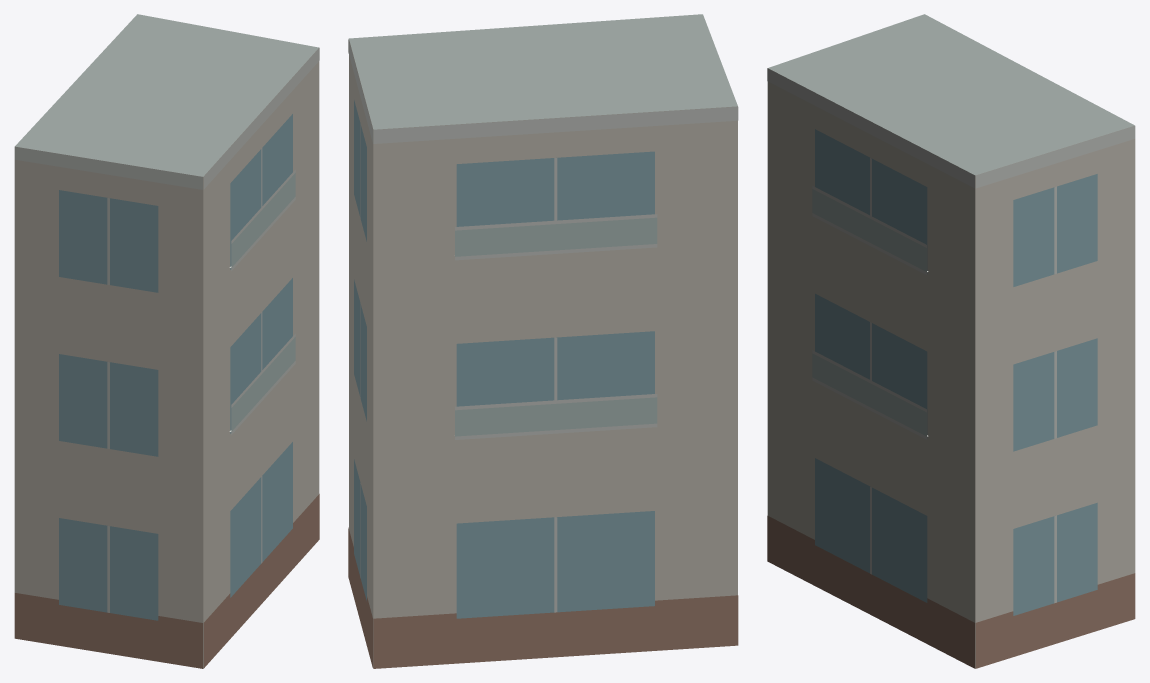
Rendered from survey-upis-32986590.glb.
3 renders of one model, left to right at view 1: azimuth 30°, elevation 25°; view 2: azimuth 150°, elevation 25°; view 3: azimuth 270°, elevation 25°, orthographic. The views are drawn at different scales.
Visible parts, largest first — view 1: survey-upis-32986590.tmp; view 2: survey-upis-32986590.tmp; view 3: survey-upis-32986590.tmp.
Boxes of the visible parts, x1=… form: survey-upis-32986590.tmp: x1=14, y1=14, x2=319, y2=668; survey-upis-32986590.tmp: x1=348, y1=14, x2=738, y2=668; survey-upis-32986590.tmp: x1=767, y1=14, x2=1135, y2=668.
Bounding box in the file's own units: 6.43 × 9.15 × 6.19.
